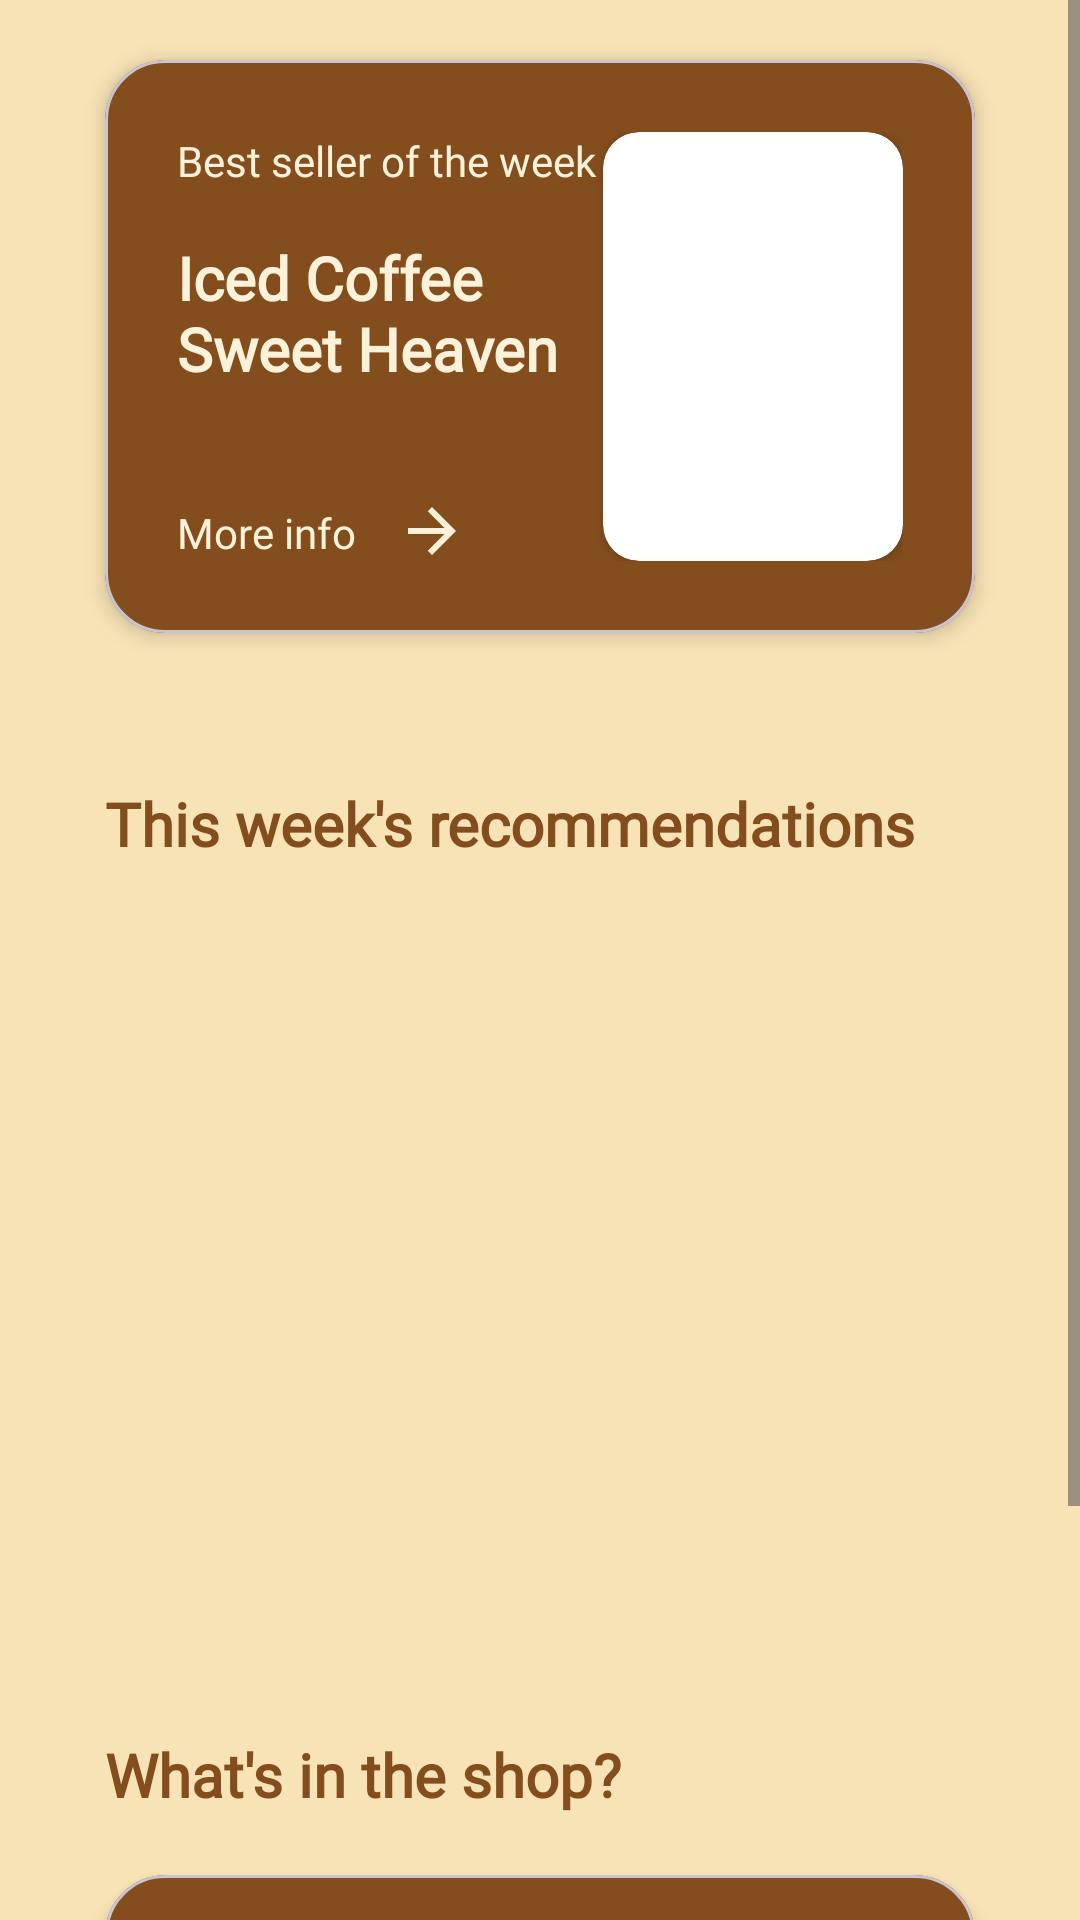

Locate icon controls on the screen. Image size 1080 × 1920, boxes as (x1, y1, x2, y2).
Forward: (408, 507, 456, 555)
